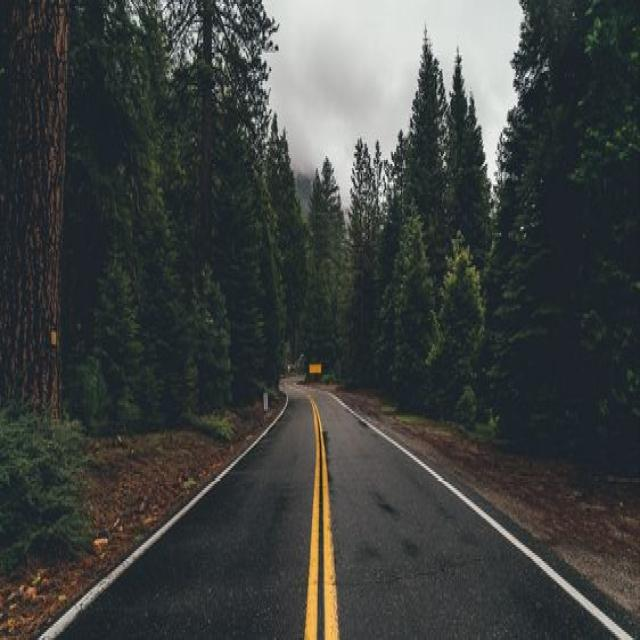asphalt: (317, 393, 602, 638), (59, 395, 315, 638)
